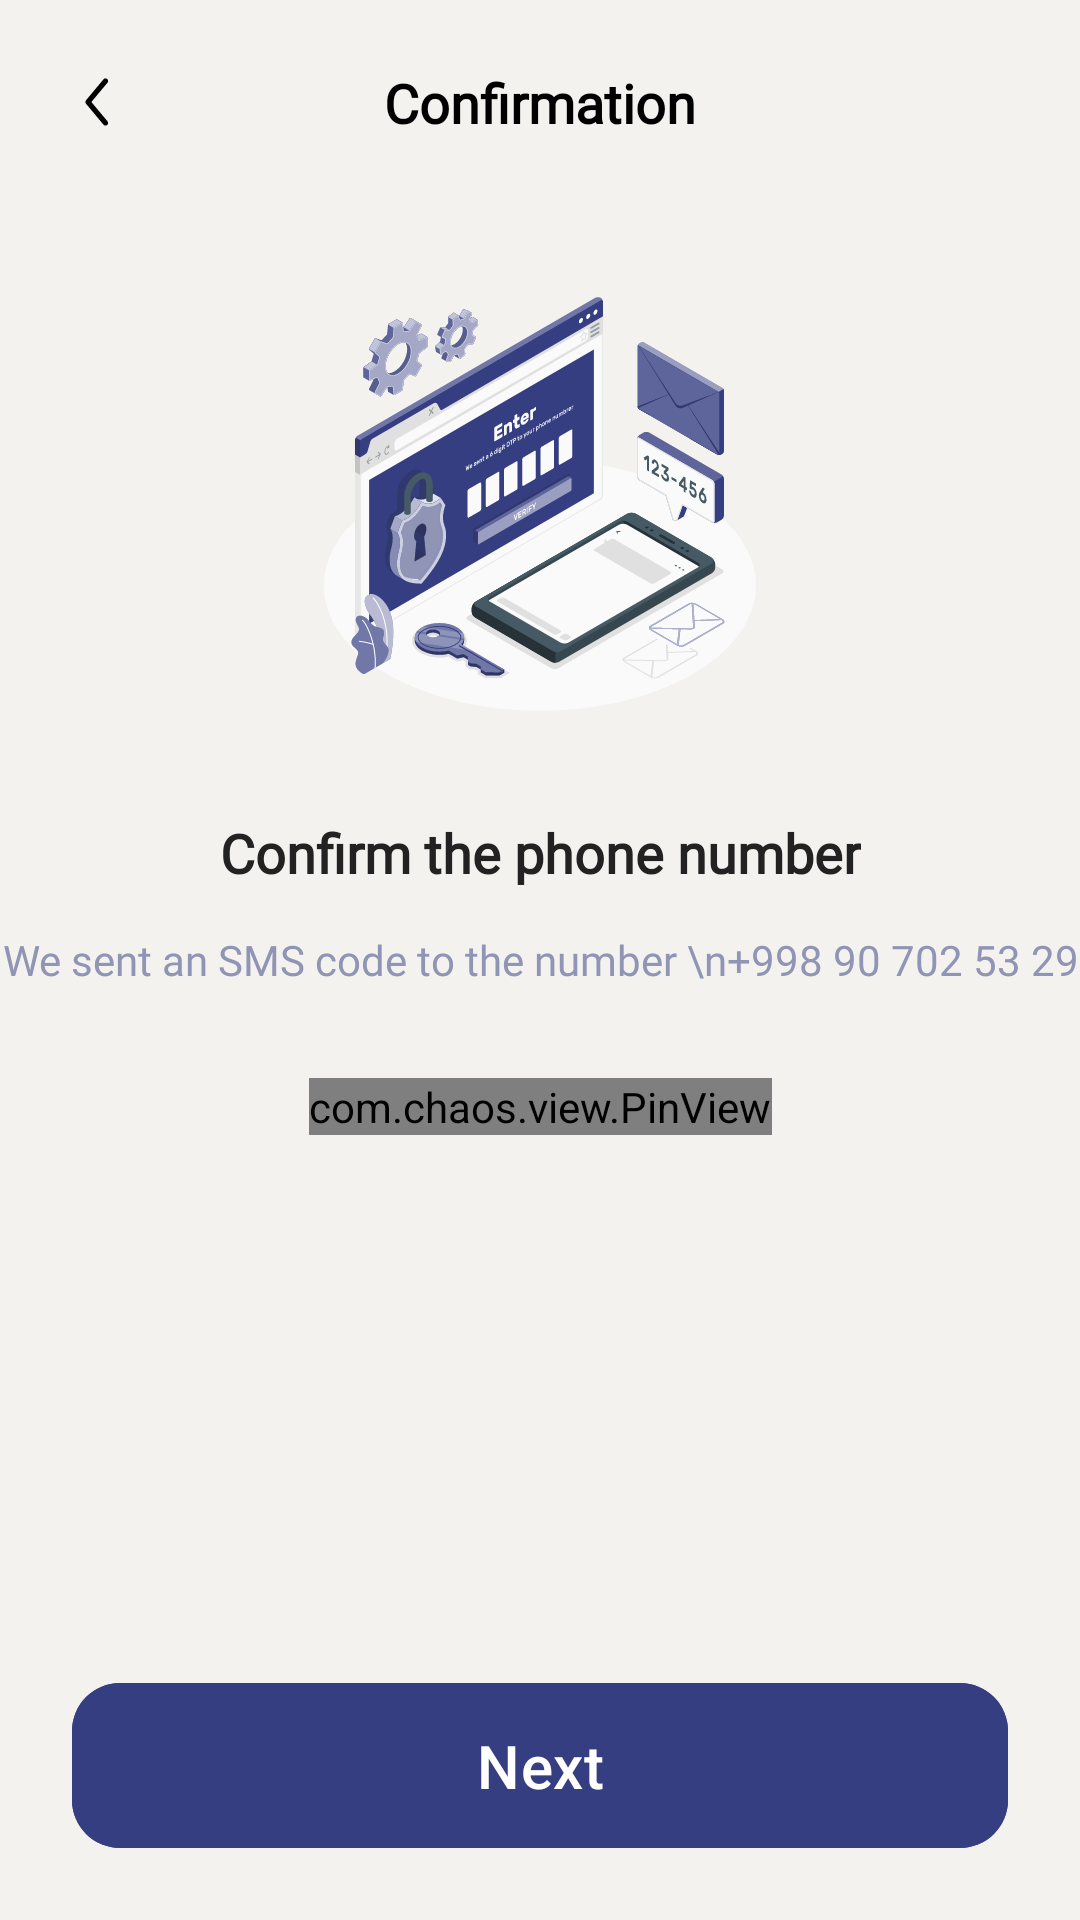

Named icons in this screenshot (1080*1920) and their bounding boxes, [x1,y1,x2,y2]:
back: [85,78,108,126]
